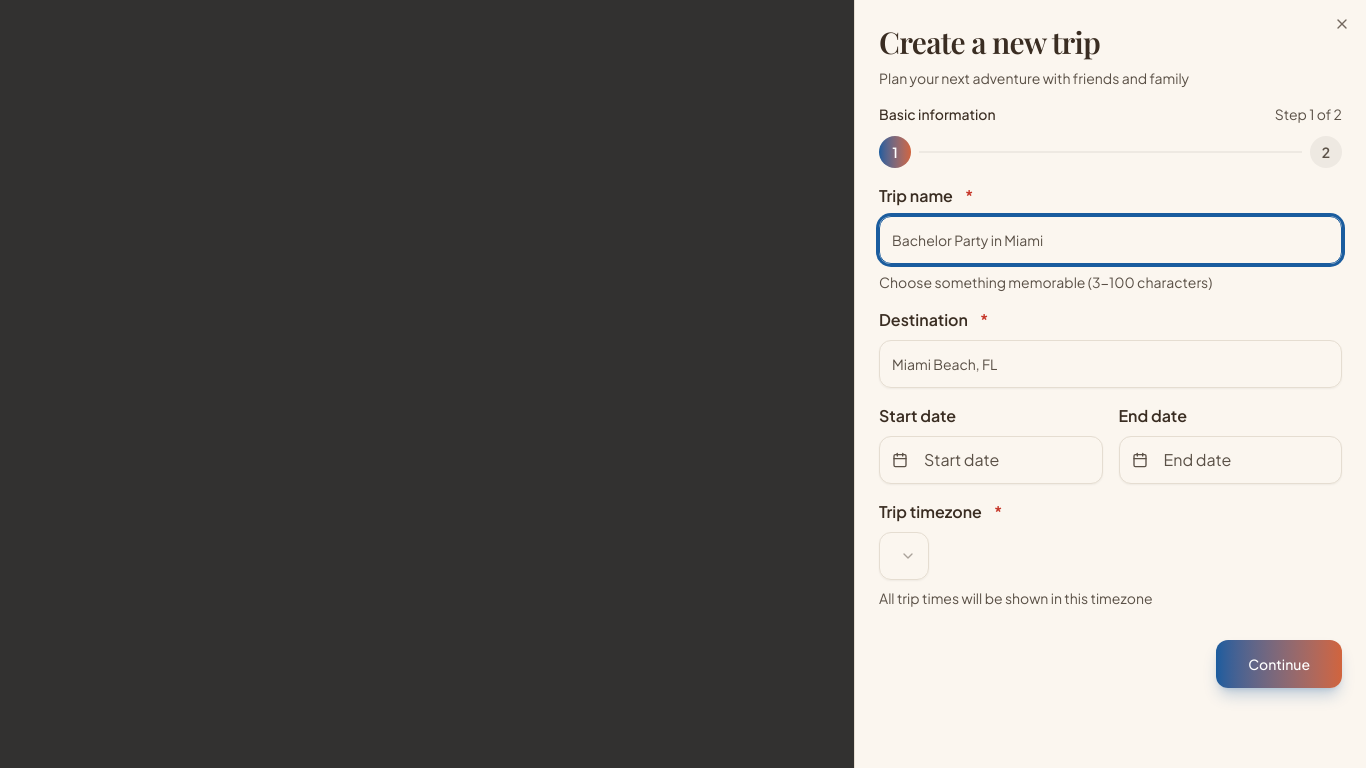
CreateTripDialog › Field validation - Trip name › shows error when trip name is empty
The image size is (1366, 768).
What coordinates should you click on to do the following:
click the button "Continue"
I would click on:
 (1279, 664)
Its box is [1216,640,1342,688].
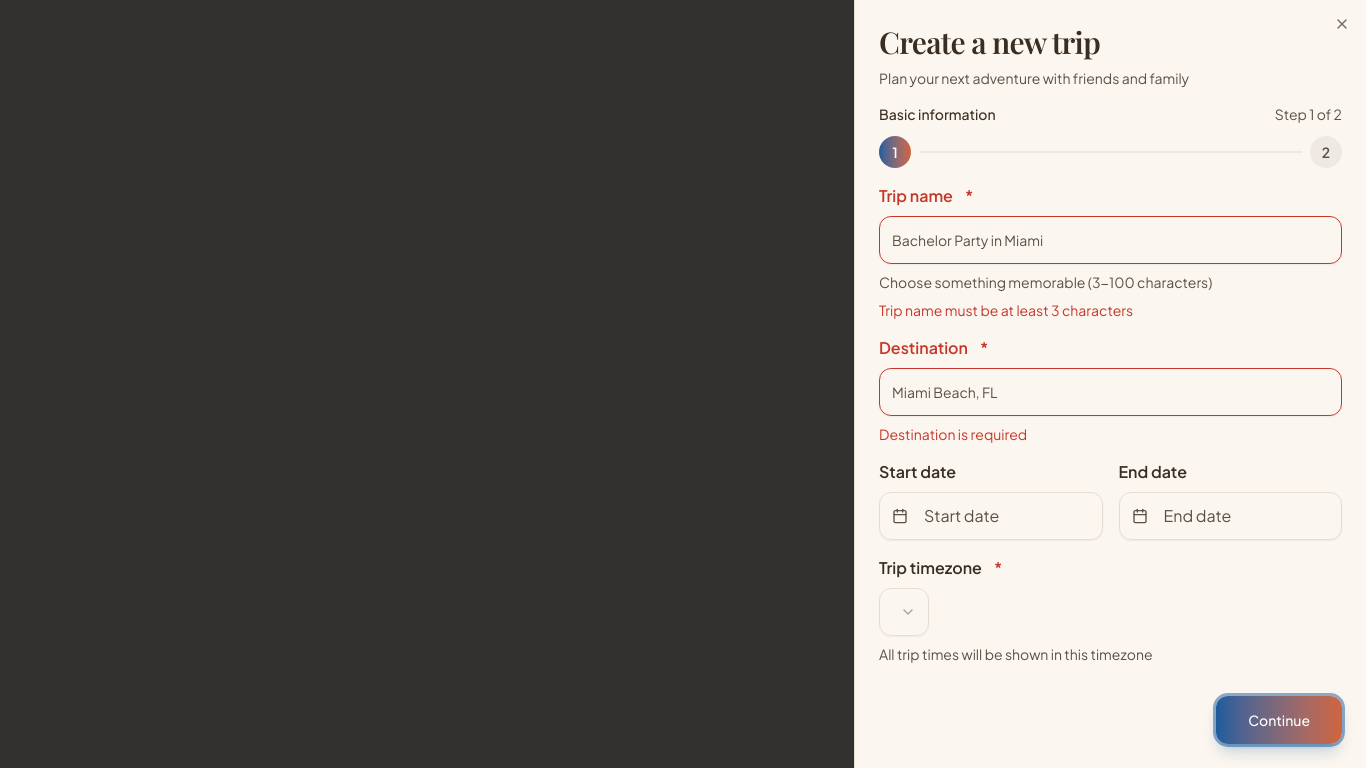
Result: the text "Destination is required" is shown at [879,425,1027,443]
